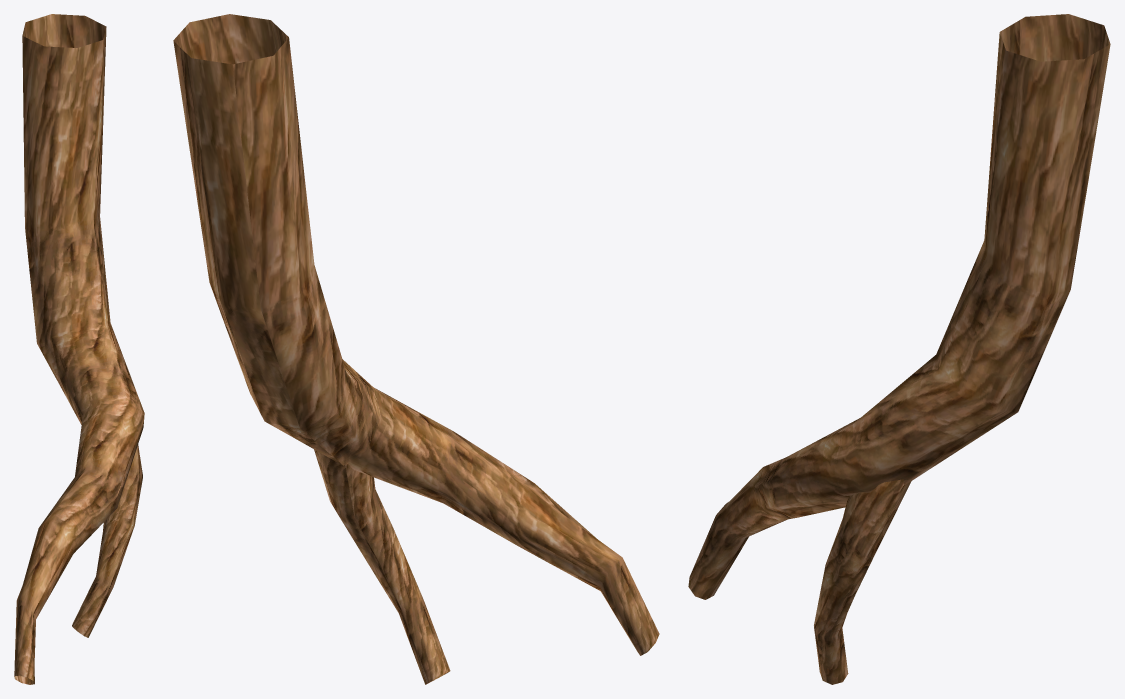
The model's file is EKH_THRONE_PS_TH_ROOT_03.fbx.
The picture shows the model from 3 angles, left to right: view 1: azimuth 30°, elevation 25°; view 2: azimuth 150°, elevation 25°; view 3: azimuth 270°, elevation 25°; orthographic projection. The views are drawn at different scales.
Visible parts, largest first — view 1: EKH_THRONE_PS_TH_ROOT_03; view 2: EKH_THRONE_PS_TH_ROOT_03; view 3: EKH_THRONE_PS_TH_ROOT_03.
Boxes of the visible parts, x1=… form: EKH_THRONE_PS_TH_ROOT_03: x1=14, y1=14, x2=144, y2=684; EKH_THRONE_PS_TH_ROOT_03: x1=173, y1=14, x2=659, y2=684; EKH_THRONE_PS_TH_ROOT_03: x1=688, y1=14, x2=1110, y2=684.
Bounding box in the file's own units: 55510 × 127392 × 70887.
1 material, 1 textured.
